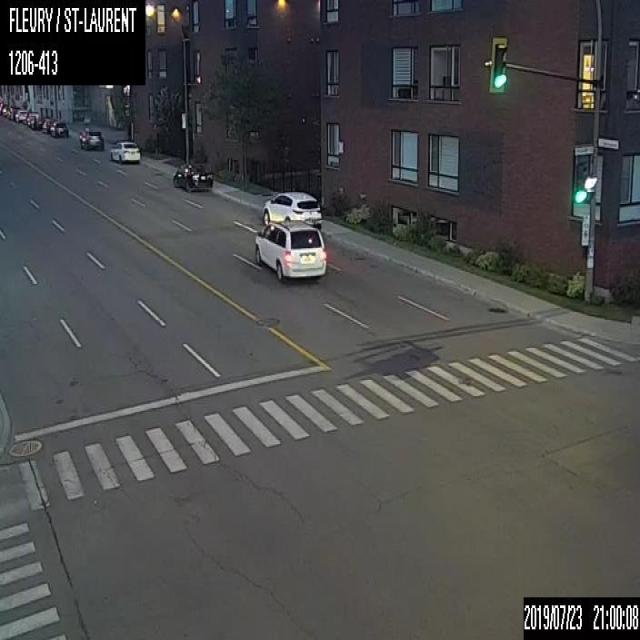vehicle: (253, 221, 325, 284), (262, 190, 321, 230), (172, 160, 215, 192), (110, 137, 140, 163), (78, 127, 105, 149), (40, 116, 57, 134), (49, 120, 67, 136)
